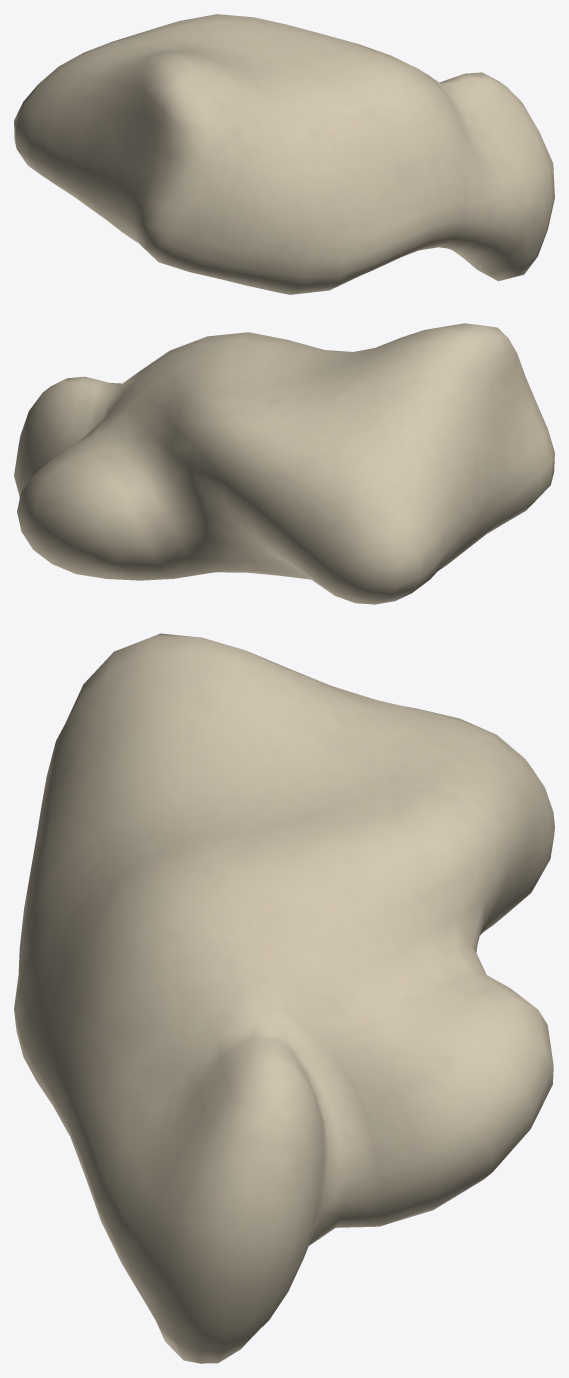
The model's file is R carpi intermedium radiale.fbx.
The picture shows the model from 3 angles, top to bottom: view 1: azimuth 30°, elevation 25°; view 2: azimuth 150°, elevation 25°; view 3: azimuth 270°, elevation 25°; orthographic projection. The views are drawn at different scales.
Visible parts, largest first — view 1: R carpi intermedium radiale; view 2: R carpi intermedium radiale; view 3: R carpi intermedium radiale.
Part boxes in pixels (x1=…): R carpi intermedium radiale: x1=14, y1=14, x2=554, y2=294; R carpi intermedium radiale: x1=14, y1=323, x2=554, y2=604; R carpi intermedium radiale: x1=14, y1=633, x2=554, y2=1363.
Bounding box in the file's own units: 4.28 × 2.74 × 2.87.
